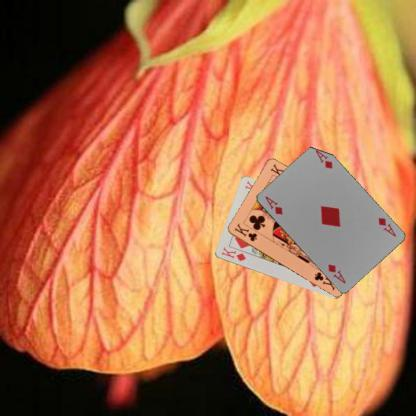Ad: (375, 215, 397, 238), (262, 194, 284, 216)
Kc: (232, 220, 258, 242)
Kd: (219, 244, 247, 263)
